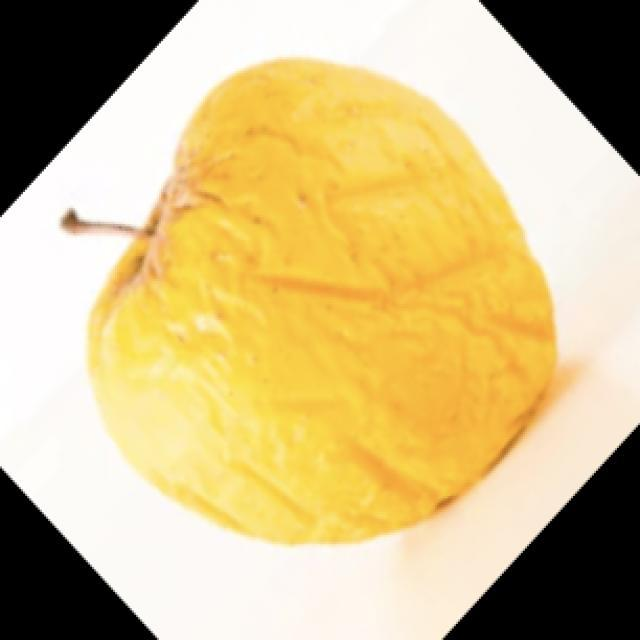Rotten: (97, 58, 563, 557)
